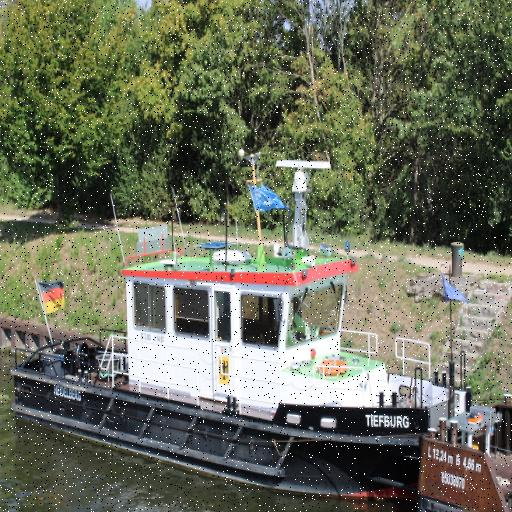tugboat: (9, 156, 479, 512)
